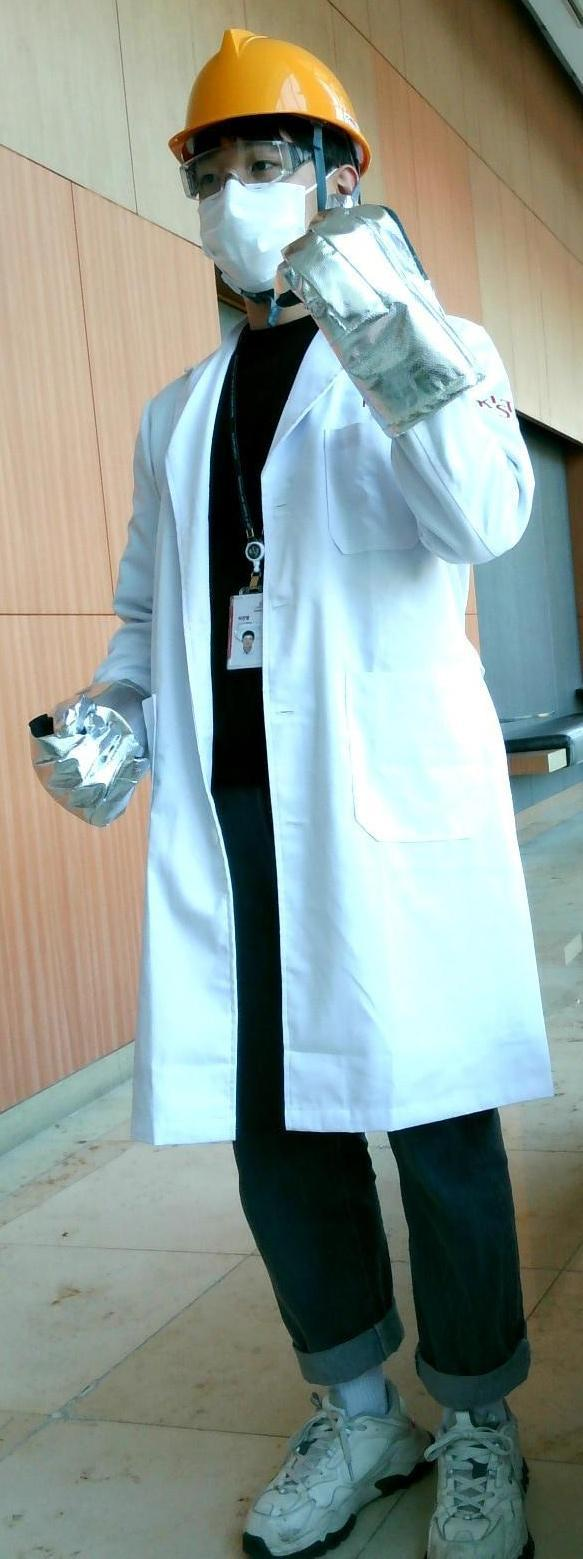lab_coat: (137, 419, 526, 1122)
